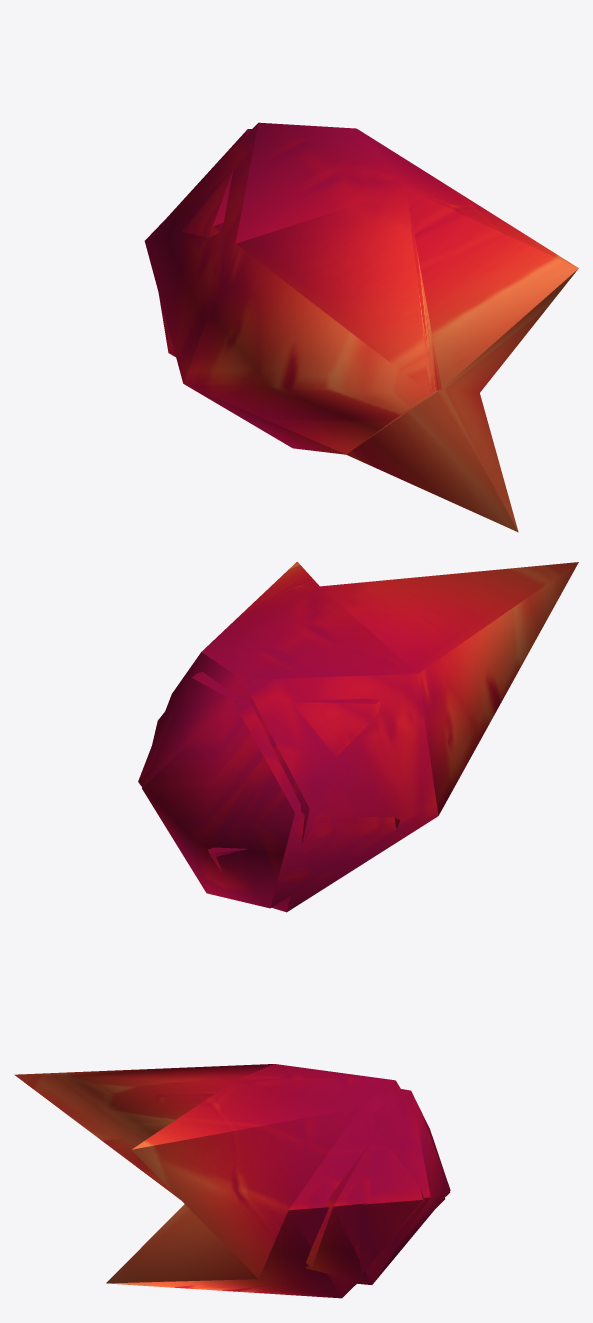
3 views of the same model, one above another, from view 1: azimuth 30°, elevation 25°; view 2: azimuth 150°, elevation 25°; view 3: azimuth 270°, elevation 25° (orthographic). The views are drawn at different scales.
Visible parts, largest first — view 1: mineral node.model_set-MeshSets[mesh4].Mesh[0], mineral node.model_set-MeshSets[mesh3].Mesh[0]; view 2: mineral node.model_set-MeshSets[mesh4].Mesh[0], mineral node.model_set-MeshSets[mesh3].Mesh[0]; view 3: mineral node.model_set-MeshSets[mesh4].Mesh[0], mineral node.model_set-MeshSets[mesh3].Mesh[0].
Part boxes in pixels (x1,y1,x2,y2): mineral node.model_set-MeshSets[mesh4].Mesh[0]: (144,122,578,532); mineral node.model_set-MeshSets[mesh3].Mesh[0]: (158,129,251,356); mineral node.model_set-MeshSets[mesh4].Mesh[0]: (138,561,578,912); mineral node.model_set-MeshSets[mesh3].Mesh[0]: (142,672,400,908); mineral node.model_set-MeshSets[mesh4].Mesh[0]: (14,1064,450,1298); mineral node.model_set-MeshSets[mesh3].Mesh[0]: (305,1089,450,1284).
Bounding box in the file's own units: 0.9636 × 0.8914 × 2.23.
Materials: 2 (2 with a texture image).
